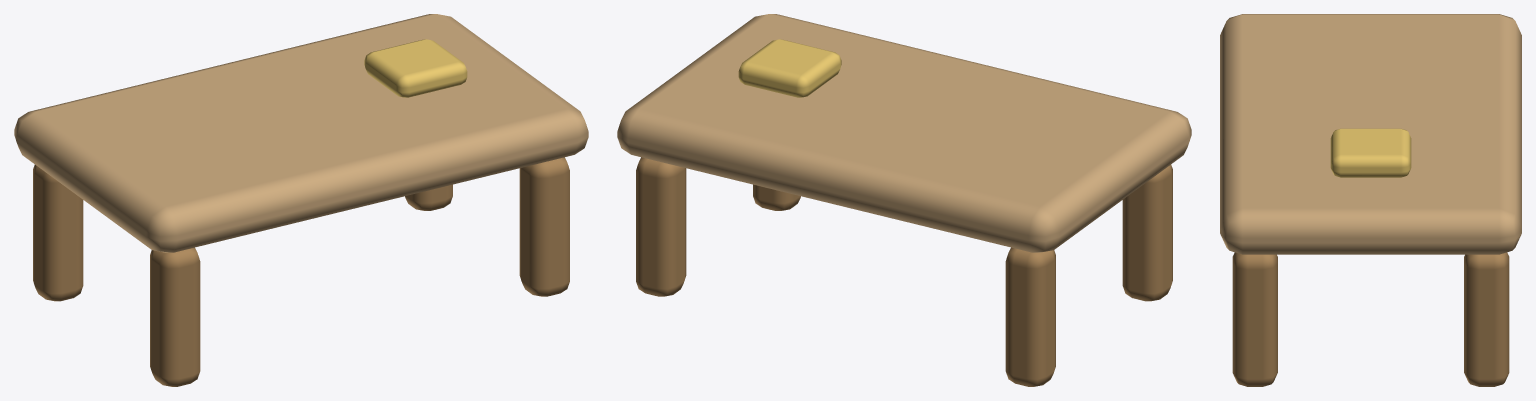
Rendered from coffee.glb.
3 renders of one model, left to right at view 1: azimuth 30°, elevation 25°; view 2: azimuth 150°, elevation 25°; view 3: azimuth 270°, elevation 25°, orthographic.
Bounding box in the file's own units: 1 × 0.455 × 0.6.
